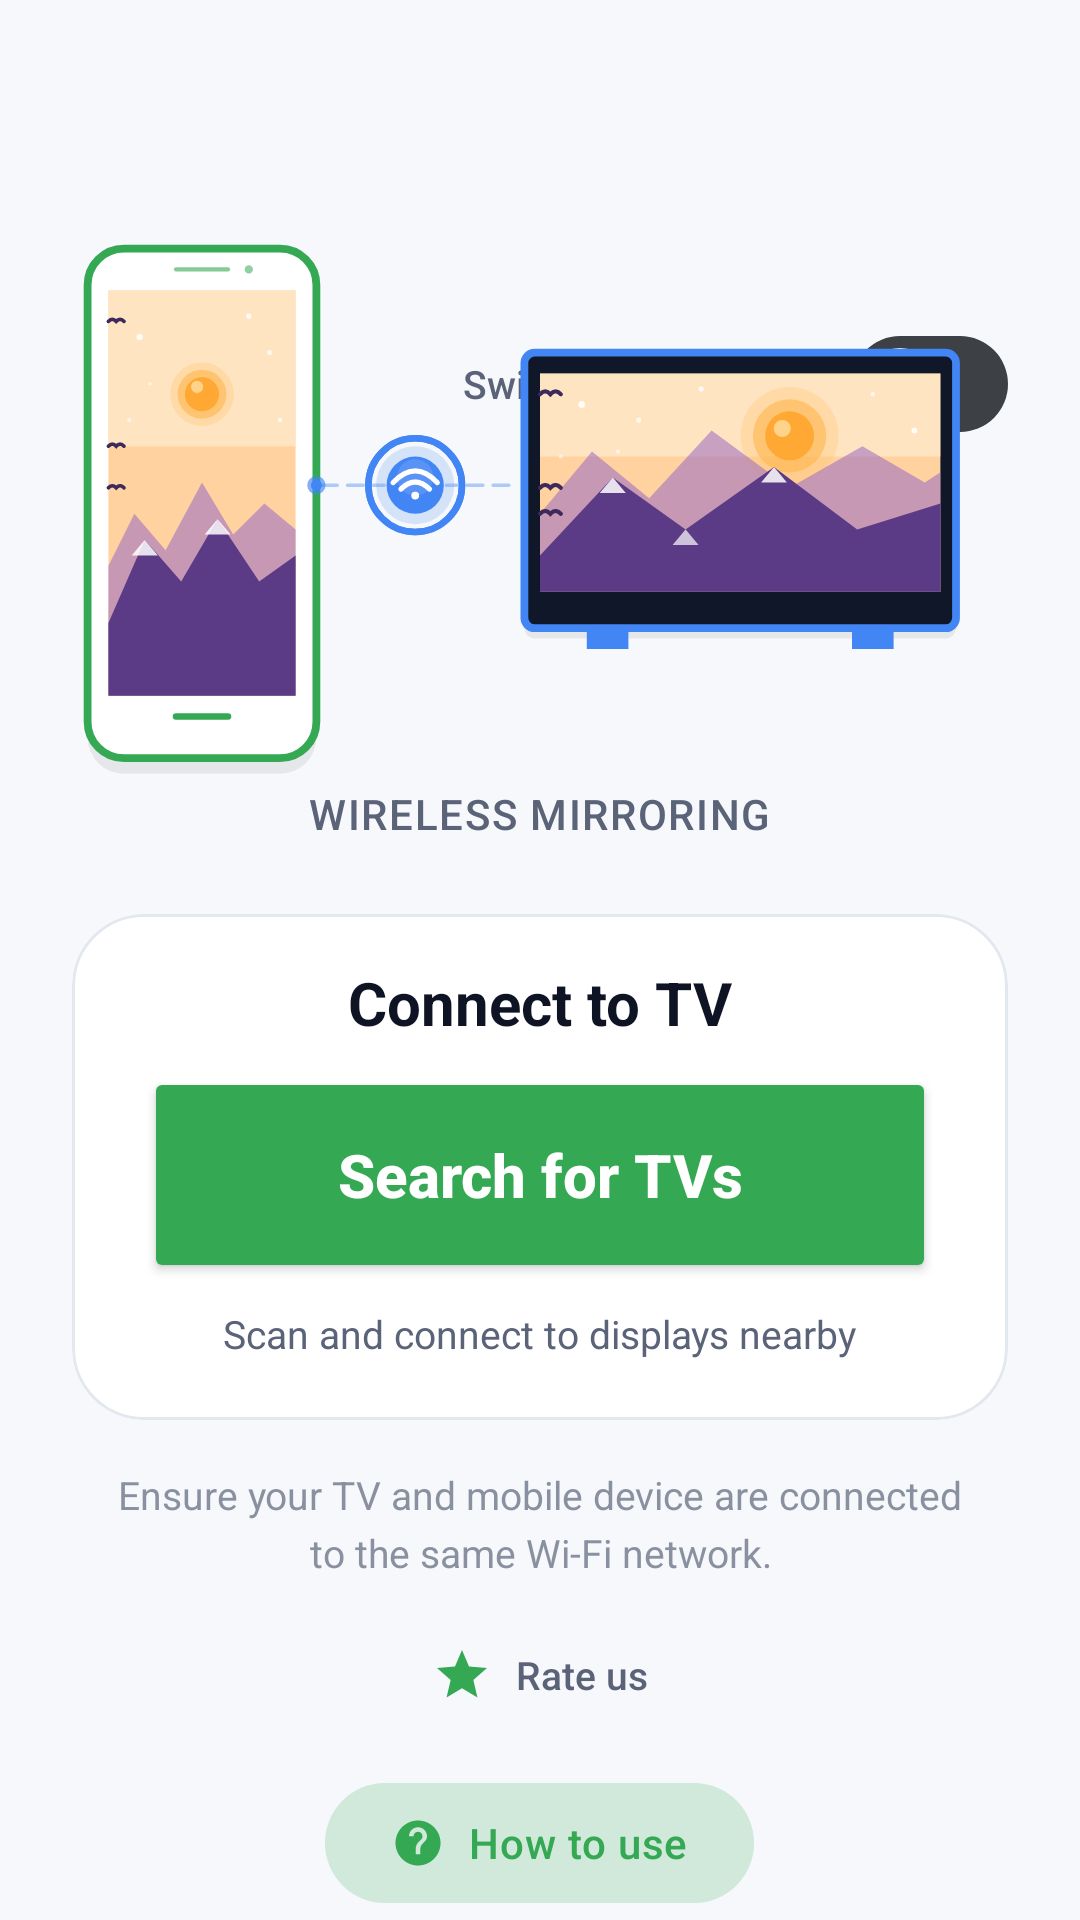

Named icons in this screenshot (1080px x 1920px) and their centers, (x,y):
rate star: (462,1674)
